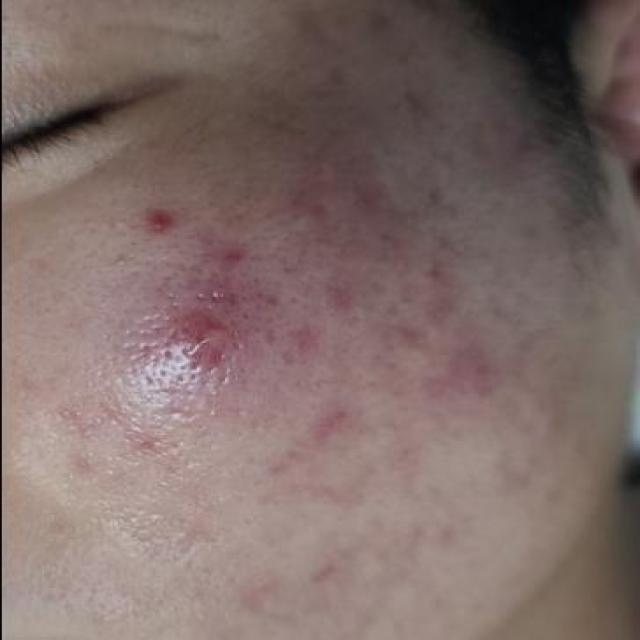8: (141, 186, 188, 243)
blackheads: (169, 285, 267, 312)
pustules: (105, 311, 285, 421)
